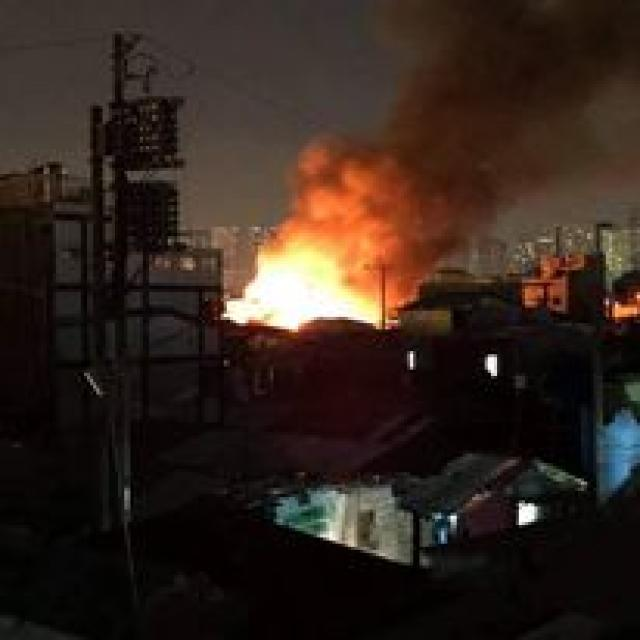Fire: (256, 248, 386, 338)
Smoke: (397, 0, 640, 183), (306, 154, 466, 256)
